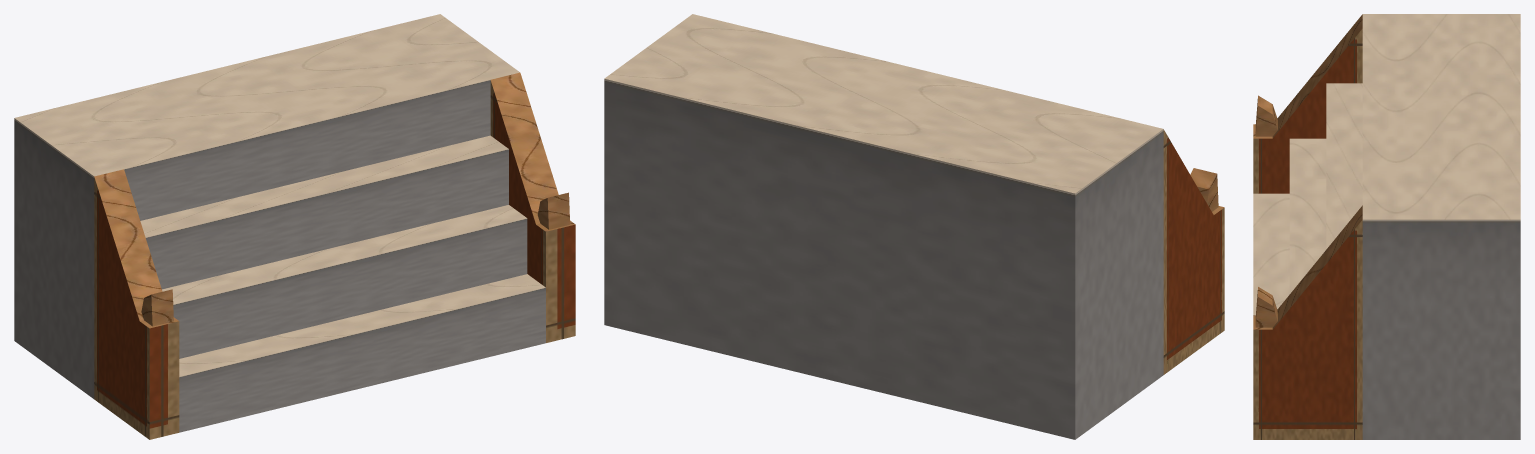
File: toad-prop-palace-step.glb
3 renders of one model, left to right at view 1: azimuth 30°, elevation 25°; view 2: azimuth 150°, elevation 25°; view 3: azimuth 270°, elevation 25°, orthographic. The views are drawn at different scales.
Parts seen in each view (by area): view 1: palace-step; view 2: palace-step; view 3: palace-step.
Part boxes in pixels (left/top/right/bottom): palace-step: left=14, top=14, right=575, bottom=439; palace-step: left=604, top=14, right=1224, bottom=439; palace-step: left=1253, top=14, right=1520, bottom=439.
Size of the model in its own units: 0.2 by 0.1 by 0.11.
Materials: 1 (1 with a texture image).
